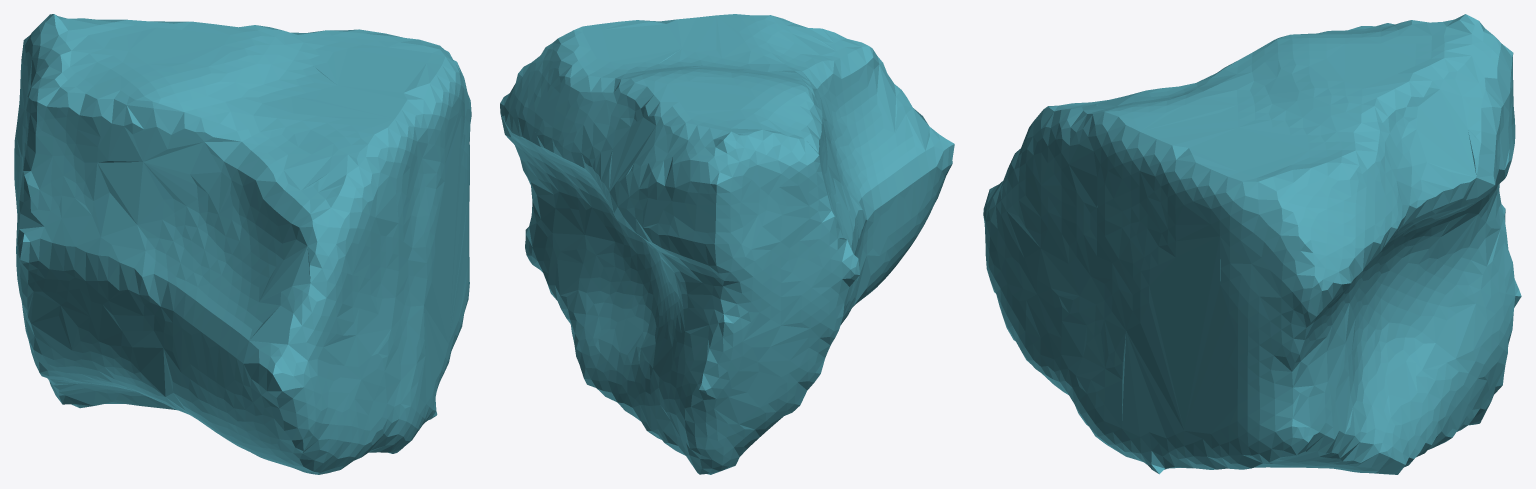
Rendered from Model_109_RH__Parietal_area_PFG_(PFG).obj.
3 views of the same model, side by side, from view 1: azimuth 30°, elevation 25°; view 2: azimuth 150°, elevation 25°; view 3: azimuth 270°, elevation 25° (orthographic). The views are drawn at different scales.
Bounding box in the file's own units: 2.8 × 2.48 × 3.03.
